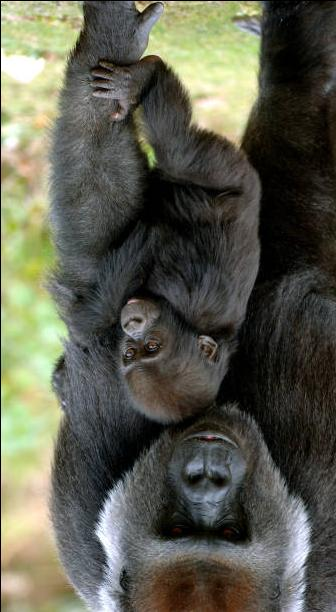gorille_Autres: (0, 0, 336, 612), (66, 68, 268, 414)
